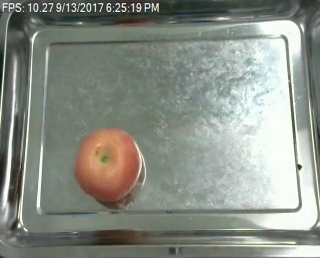Apple: (72, 124, 144, 206)
